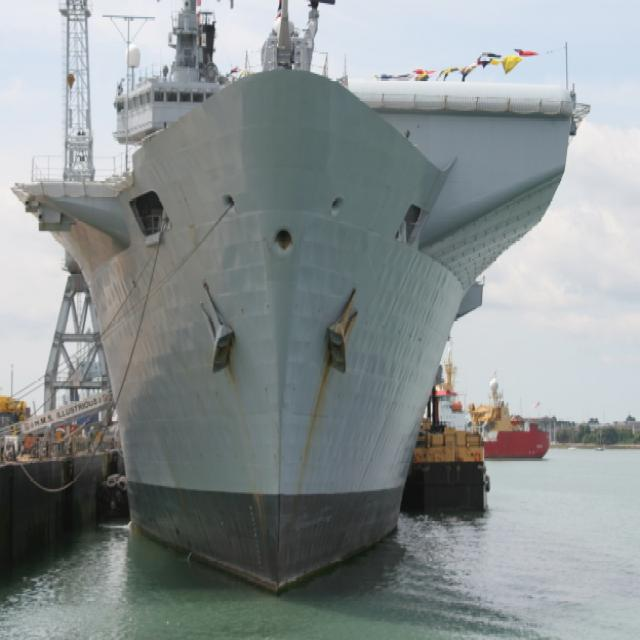Portanaves: (10, 1, 595, 601)
